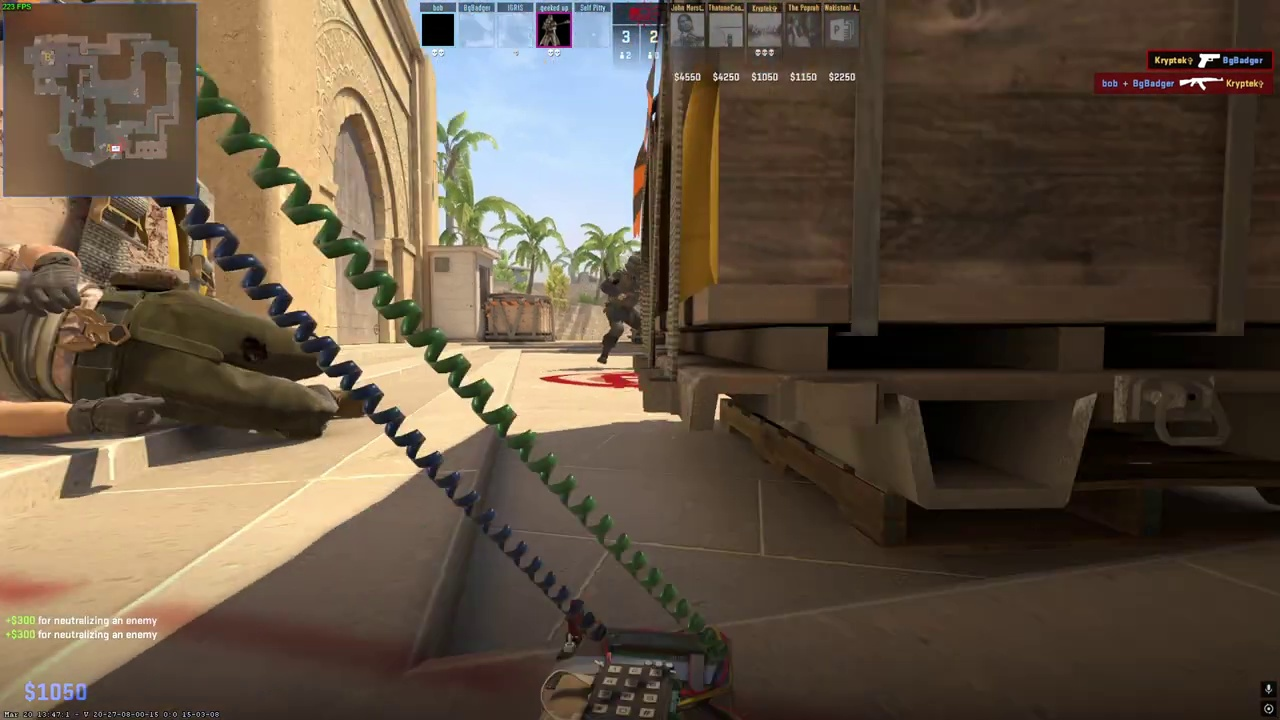CT: (601, 251, 650, 365)
